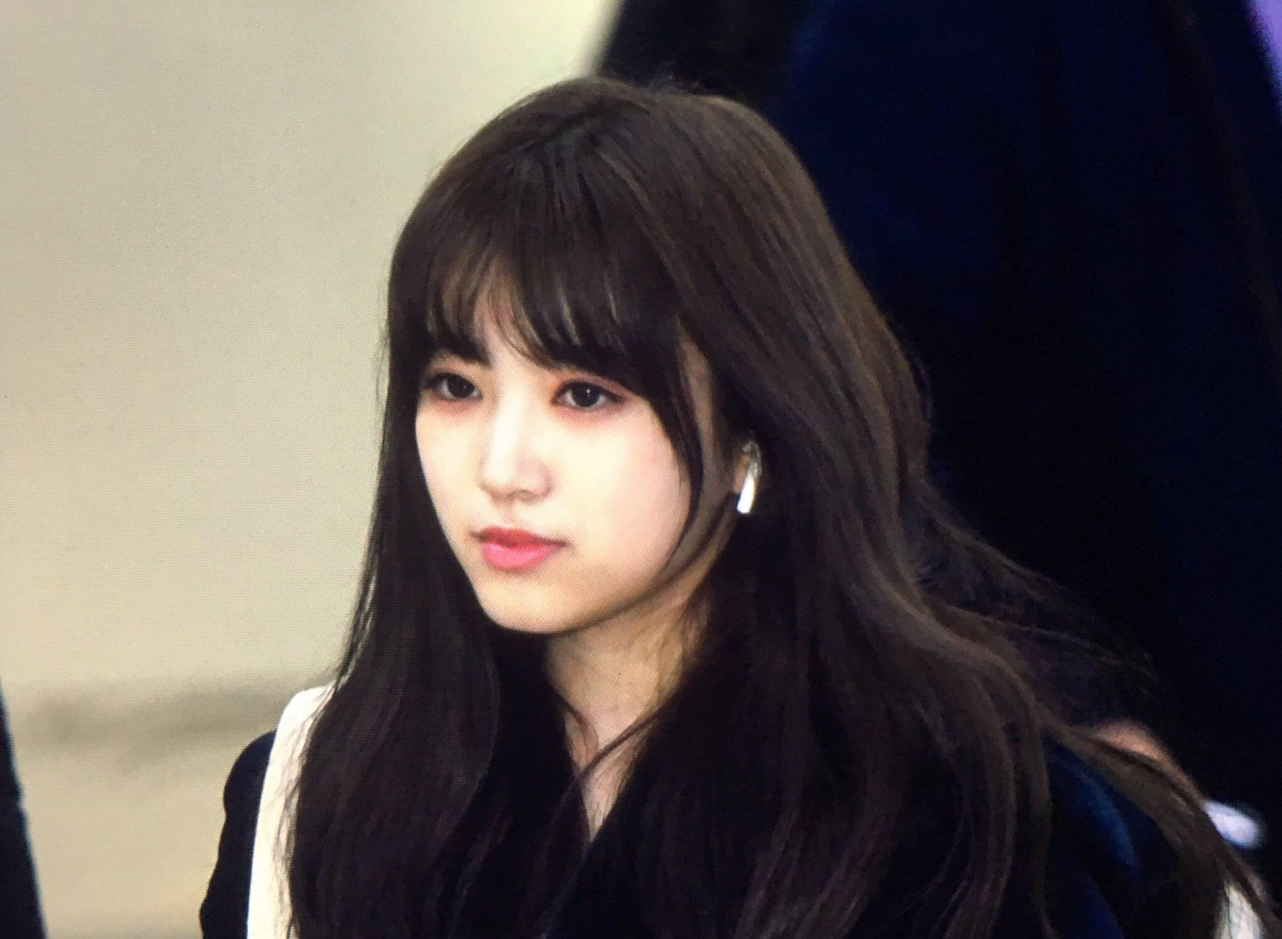earphone: (730, 445, 769, 520)
